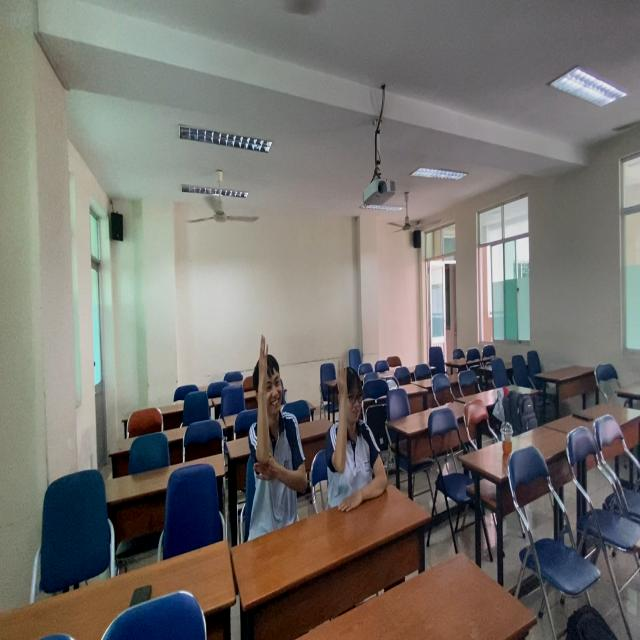raise_hand: (238, 333, 311, 535)
